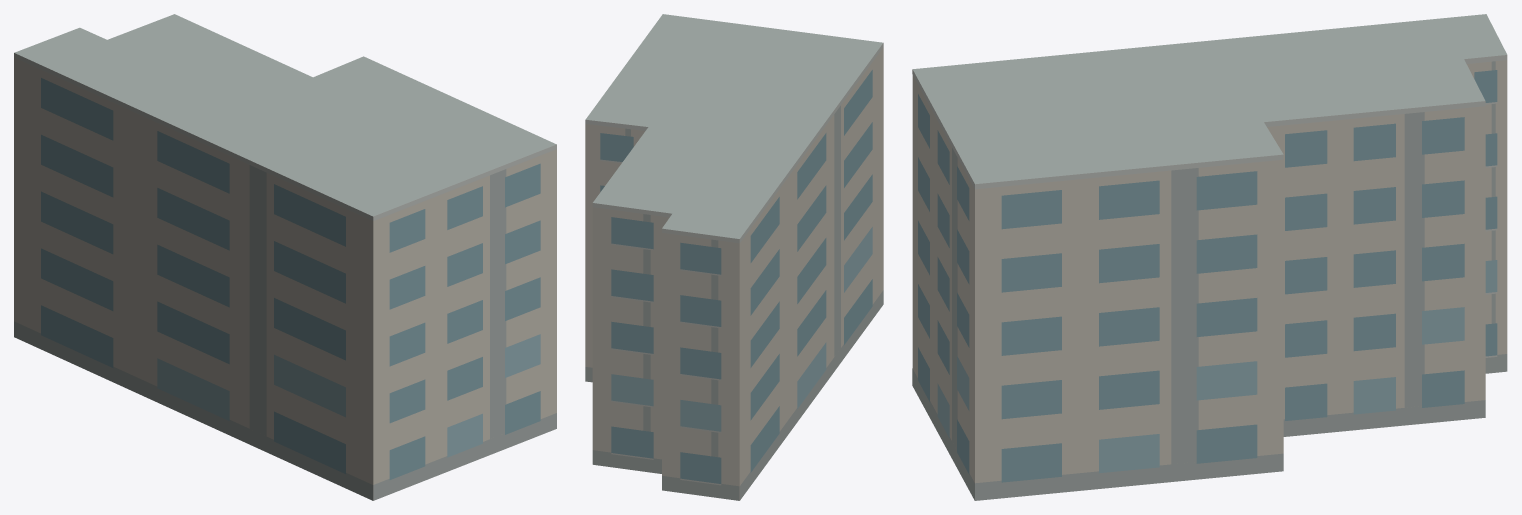
File: survey-upis-32694444.glb
3 views of the same model, side by side, from view 1: azimuth 30°, elevation 25°; view 2: azimuth 150°, elevation 25°; view 3: azimuth 270°, elevation 25° (orthographic). The views are drawn at different scales.
Visible parts, largest first — view 1: survey-upis-32694444.tmp; view 2: survey-upis-32694444.tmp; view 3: survey-upis-32694444.tmp.
Boxes of the visible parts, box(x1,y1,x2,y2) form: survey-upis-32694444.tmp: box(14, 14, 556, 500); survey-upis-32694444.tmp: box(585, 14, 883, 500); survey-upis-32694444.tmp: box(912, 14, 1507, 500).
Bounding box in the file's own units: 17.3 × 15 × 25.55.
